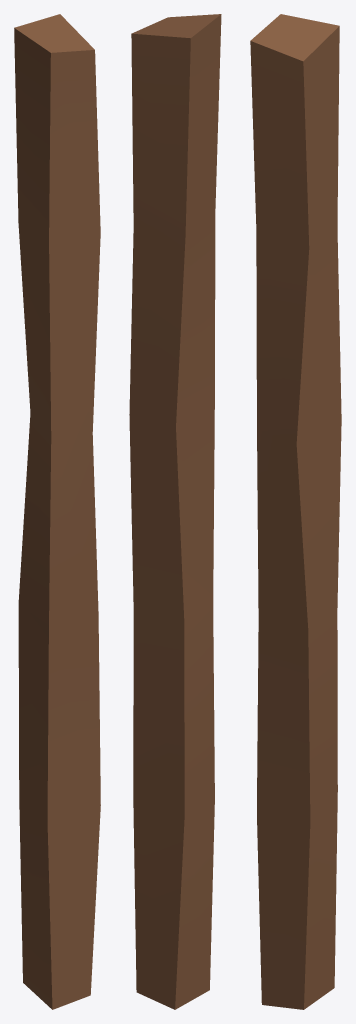
Rendered from WoodColumn3.fbx.
3 views of the same model, side by side, from view 1: azimuth 30°, elevation 25°; view 2: azimuth 150°, elevation 25°; view 3: azimuth 330°, elevation 25° (orthographic).
Visible parts, largest first — view 1: WoodColumn3; view 2: WoodColumn3; view 3: WoodColumn3.
Part boxes in pixels (left/top/right/bottom): WoodColumn3: left=14, top=14, right=100, bottom=1009; WoodColumn3: left=129, top=14, right=221, bottom=1009; WoodColumn3: left=250, top=14, right=341, bottom=1009.
Bounding box in the file's own units: 13.67 × 202 × 15.17.
